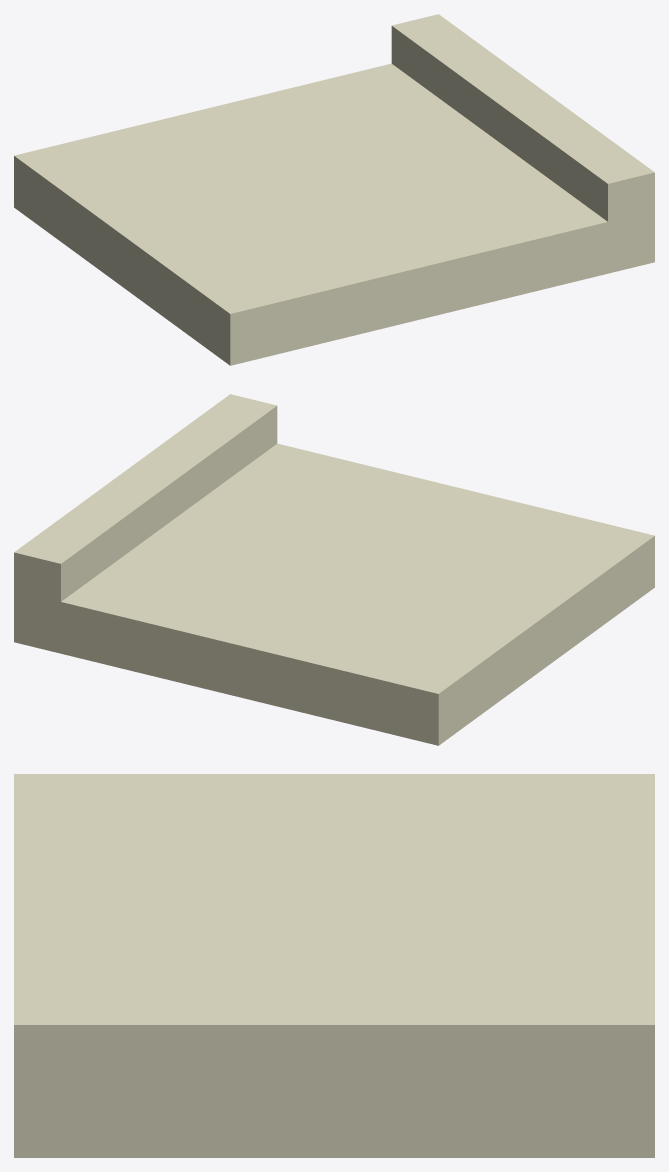
File: wujian08.FBX
3 renders of one model, top to bottom at view 1: azimuth 30°, elevation 25°; view 2: azimuth 150°, elevation 25°; view 3: azimuth 270°, elevation 25°, orthographic. The views are drawn at different scales.
Parts seen in each view (by area): view 1: Object028; view 2: Object028; view 3: Object028.
Part boxes in pixels (x1=…): Object028: x1=14, y1=14, x2=654, y2=365; Object028: x1=14, y1=394, x2=654, y2=745; Object028: x1=14, y1=774, x2=654, y2=1157.
Size of the model in its own units: 345 by 69.67 by 304.
